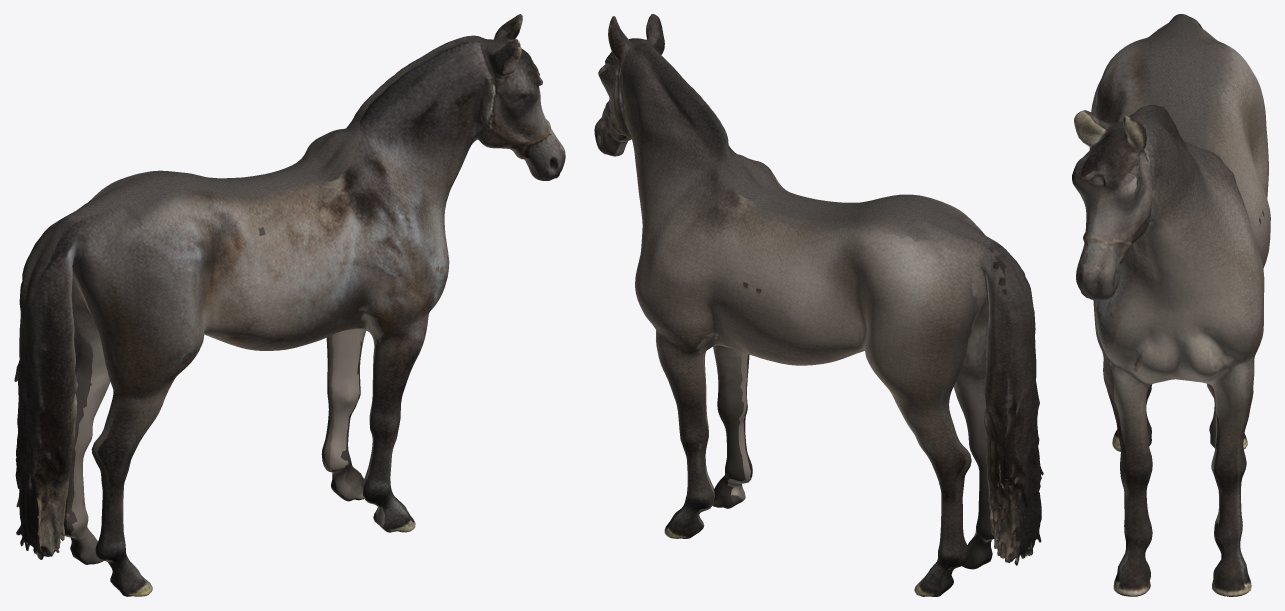
File: caballo_moro.glb
3 views of the same model, side by side, from view 1: azimuth 30°, elevation 25°; view 2: azimuth 150°, elevation 25°; view 3: azimuth 270°, elevation 25° (orthographic). The views are drawn at different scales.
Visible parts, largest first — view 1: temp_mesh.ply; view 2: temp_mesh.ply; view 3: temp_mesh.ply.
Part boxes in pixels (bbox=[...]): temp_mesh.ply: bbox=[14, 14, 565, 596]; temp_mesh.ply: bbox=[594, 14, 1043, 596]; temp_mesh.ply: bbox=[1072, 14, 1270, 596].
Size of the model in its own units: 2.3 by 2.12 by 0.7095.
1 material, 1 textured.
